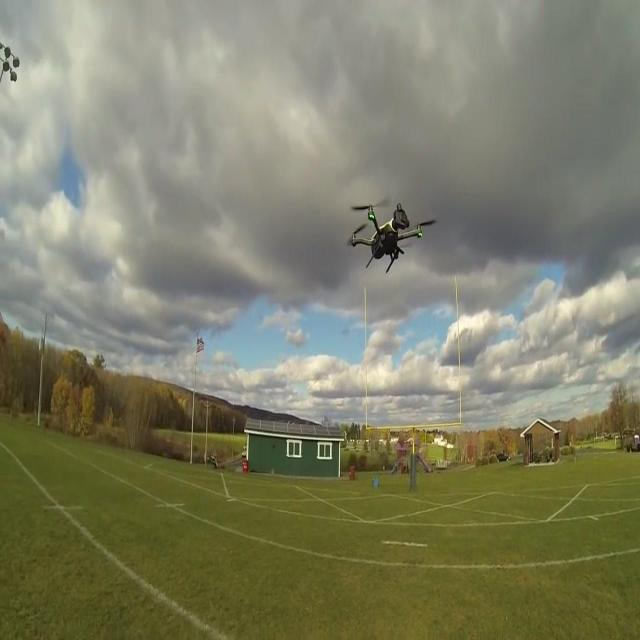UAV: (347, 197, 437, 274)
